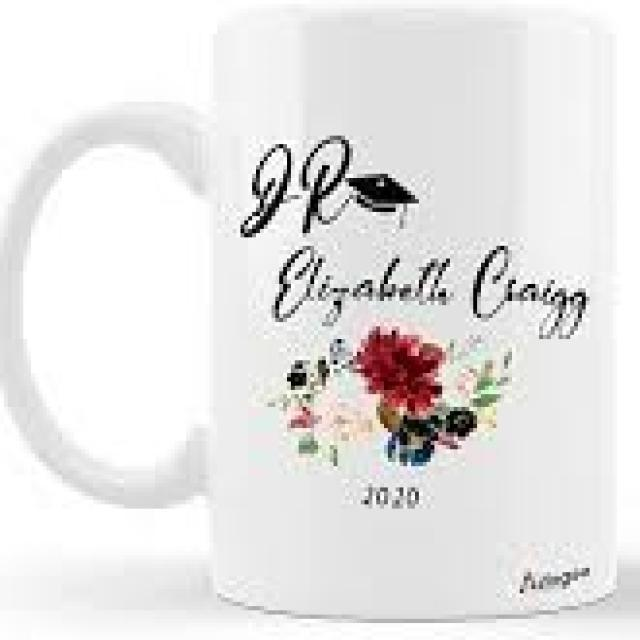taza: (4, 8, 626, 629)
